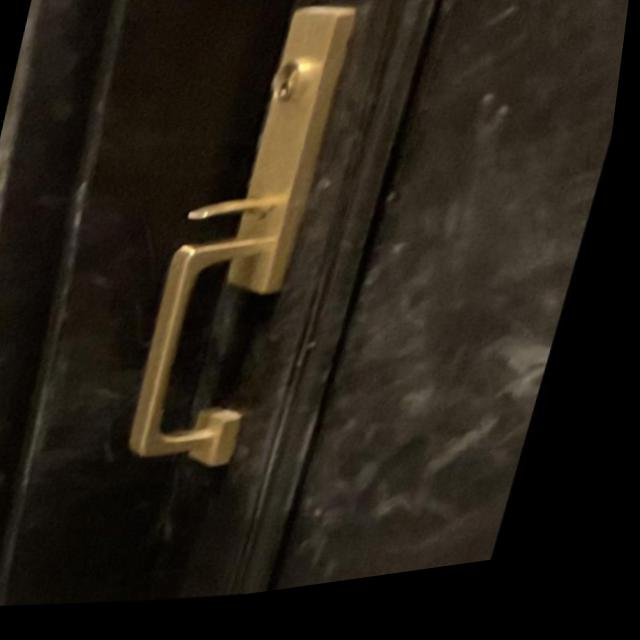door_handle: (109, 217, 332, 504)
